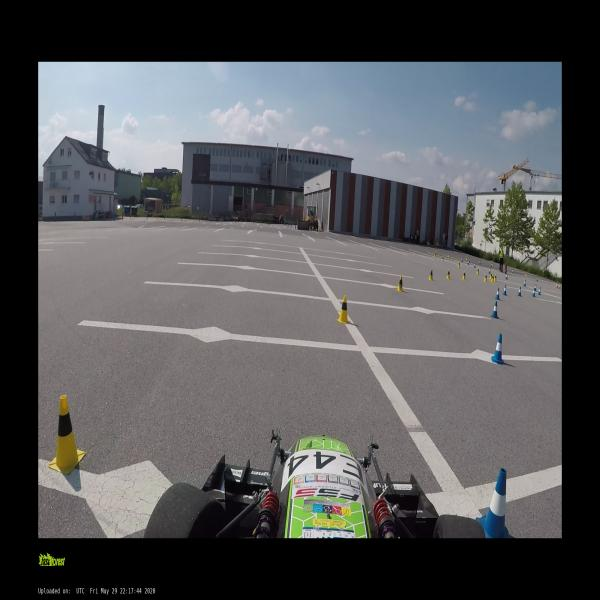blue_cone: (479, 468, 511, 538), (492, 333, 504, 365), (490, 301, 499, 318), (495, 286, 500, 300), (503, 284, 507, 295), (517, 287, 521, 296), (488, 274, 494, 280), (532, 288, 535, 297), (478, 259, 481, 265), (538, 287, 540, 295), (473, 263, 476, 268), (468, 258, 471, 263), (511, 269, 514, 274), (534, 284, 536, 291), (524, 280, 526, 286), (505, 274, 507, 280), (488, 268, 490, 274), (536, 276, 538, 282), (467, 261, 470, 265), (460, 258, 462, 262), (490, 263, 492, 267)
orange_cone: (556, 282, 558, 288), (559, 284, 561, 289)
yellow_cone: (49, 394, 84, 472), (336, 295, 350, 324), (396, 275, 403, 292), (429, 268, 433, 281), (446, 269, 450, 280), (462, 271, 466, 280), (488, 274, 494, 280), (484, 274, 487, 282), (476, 268, 479, 275), (495, 274, 497, 282), (465, 256, 468, 261), (490, 273, 492, 280), (492, 274, 494, 281), (458, 262, 460, 268), (442, 256, 444, 262), (434, 252, 436, 258), (448, 253, 450, 258), (525, 272, 527, 276), (435, 251, 436, 256)
